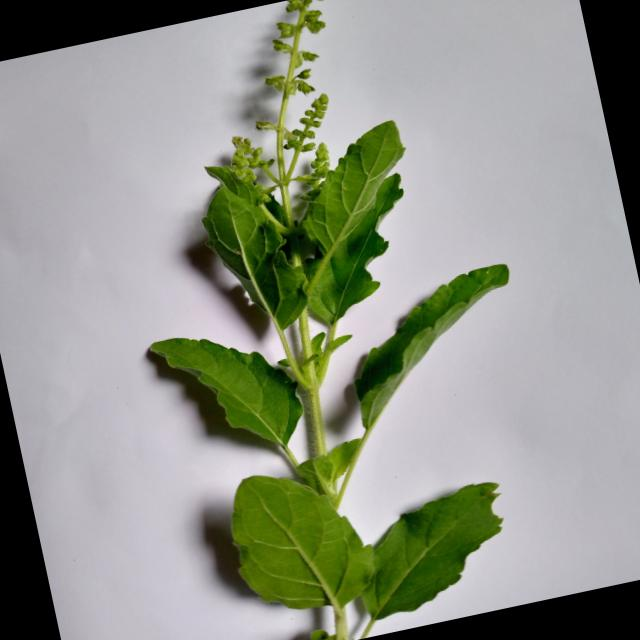tulsi: (75, 0, 583, 640)
